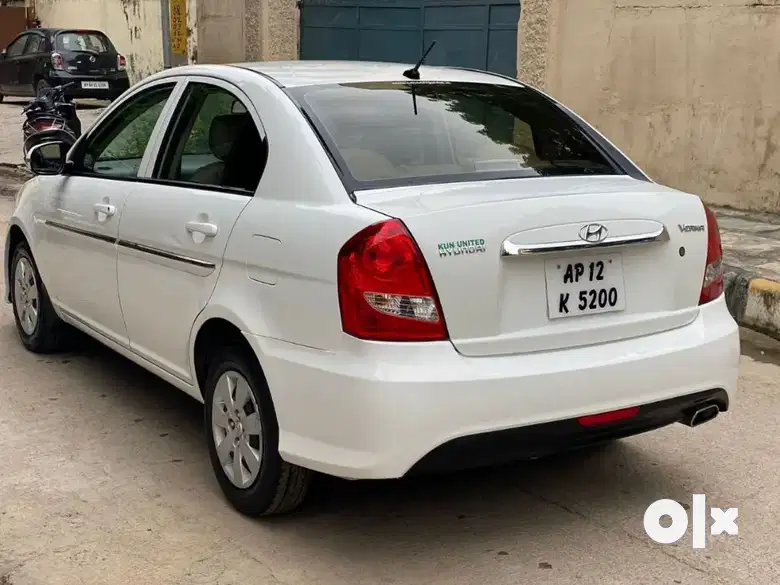car: (7, 55, 759, 503)
numberplate: (545, 251, 631, 320)
